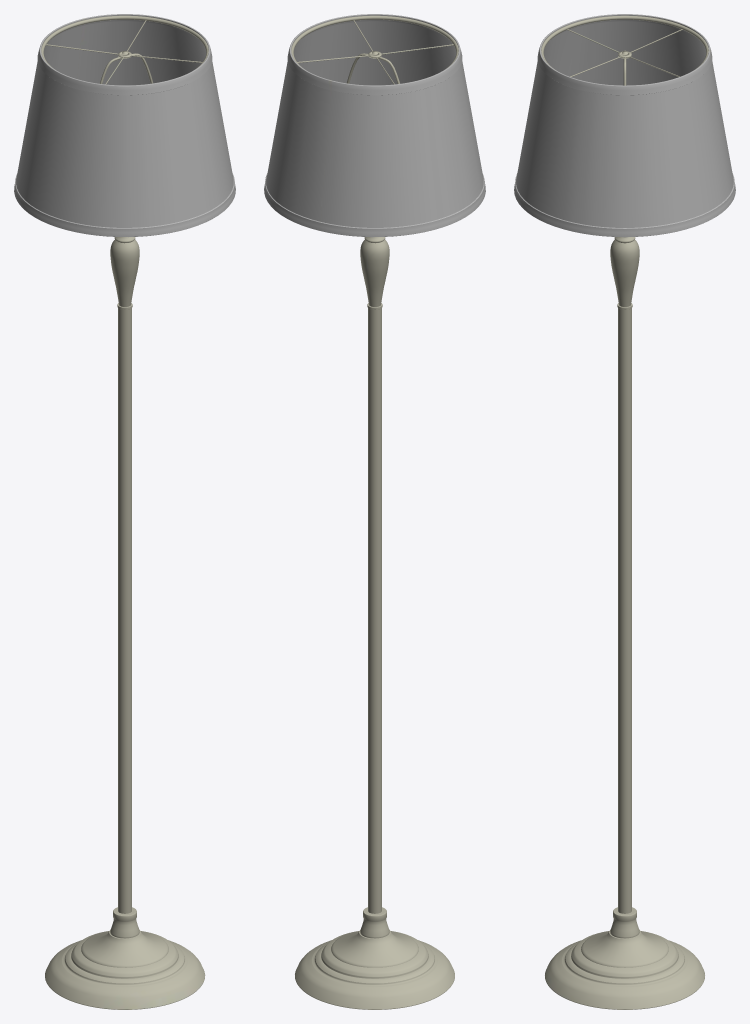
File: abo-B07DBCG1NL.glb
The picture shows the model from 3 angles, left to right: view 1: azimuth 30°, elevation 25°; view 2: azimuth 150°, elevation 25°; view 3: azimuth 270°, elevation 25°; orthographic projection.
Size of the model in its own units: 0.327 by 1.51 by 0.327.
Materials: 1 (1 with a texture image).
